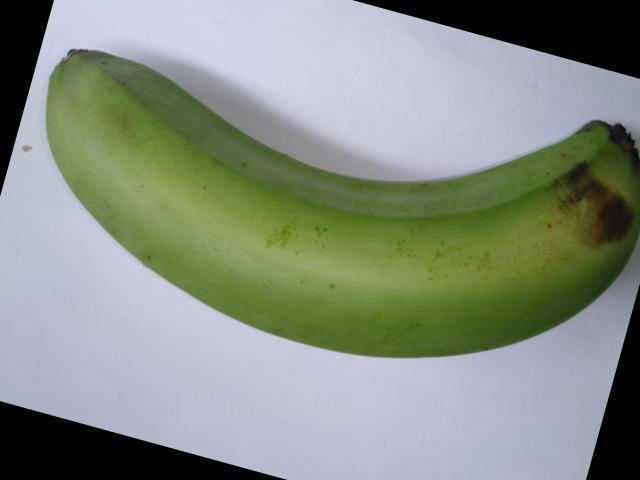freshunripe: (30, 32, 639, 393)
